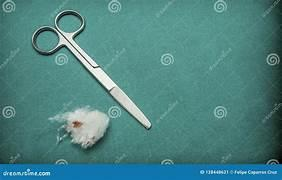cotton: (49, 106, 108, 148), (56, 125, 68, 143)
